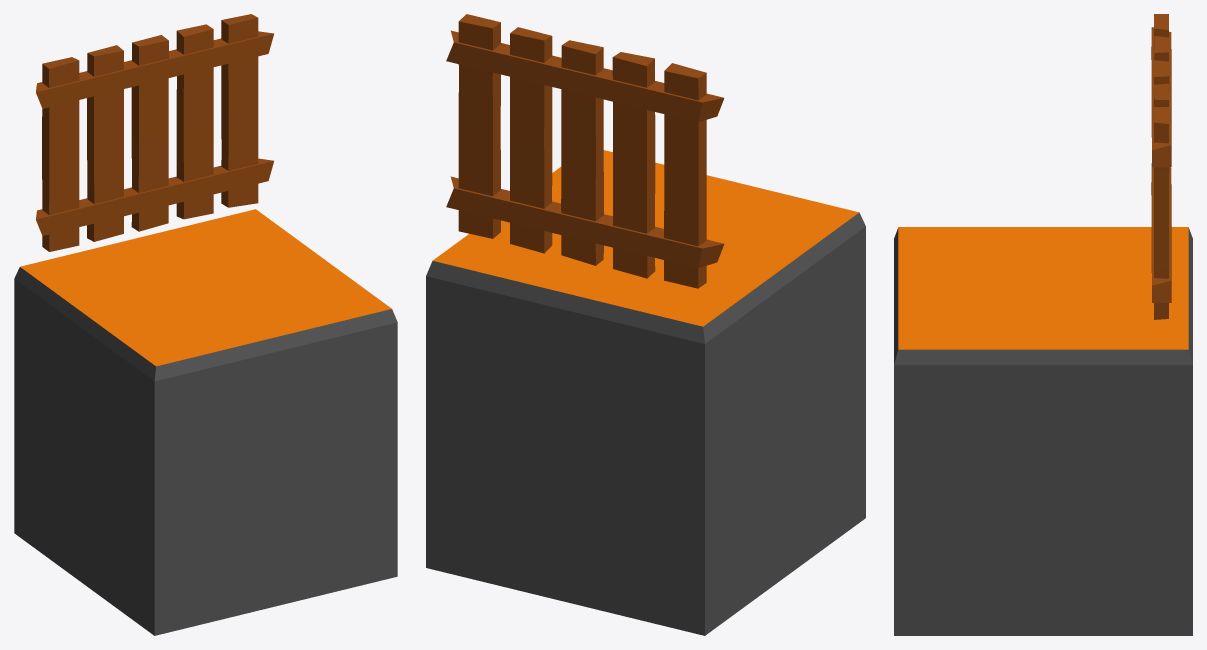
File: door_closed.glb
The picture shows the model from 3 angles, left to right: view 1: azimuth 30°, elevation 25°; view 2: azimuth 150°, elevation 25°; view 3: azimuth 270°, elevation 25°; orthographic projection. The views are drawn at different scales.
Visible parts, largest first — view 1: flying_platform; view 2: flying_platform; view 3: flying_platform.
Boxes of the visible parts, x1,y1,x2,y2 form: flying_platform: (14, 14, 397, 635); flying_platform: (426, 14, 865, 635); flying_platform: (894, 14, 1192, 635).
Size of the model in its own units: 2 by 3.73 by 2.
